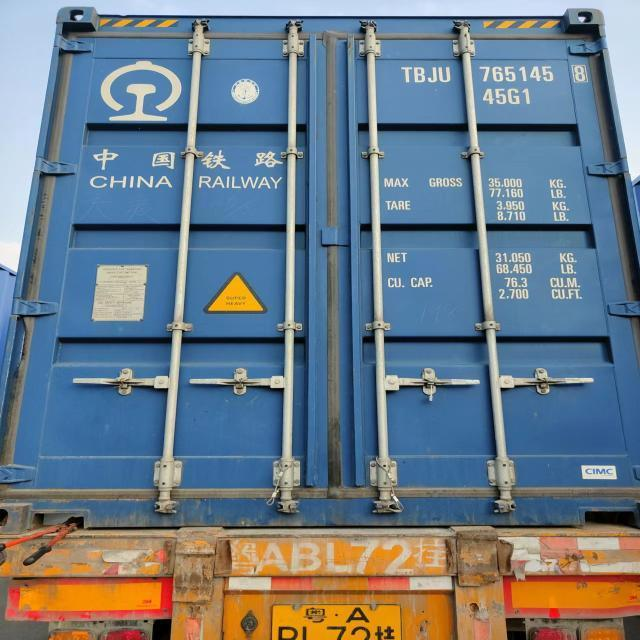ISO: (484, 90, 534, 106)
container_number: (401, 64, 590, 88)
